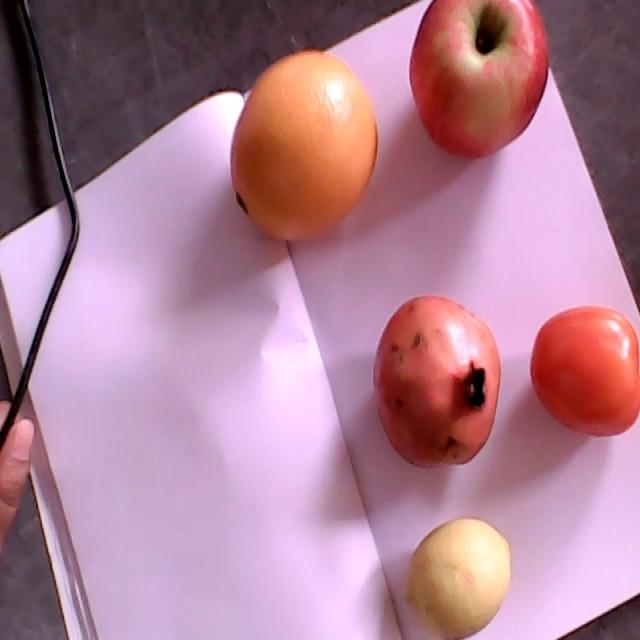apple: (409, 0, 551, 159)
lemon: (406, 516, 513, 638)
orange: (230, 50, 376, 242)
pomegranate: (373, 294, 501, 468)
tomato: (531, 307, 639, 436)
